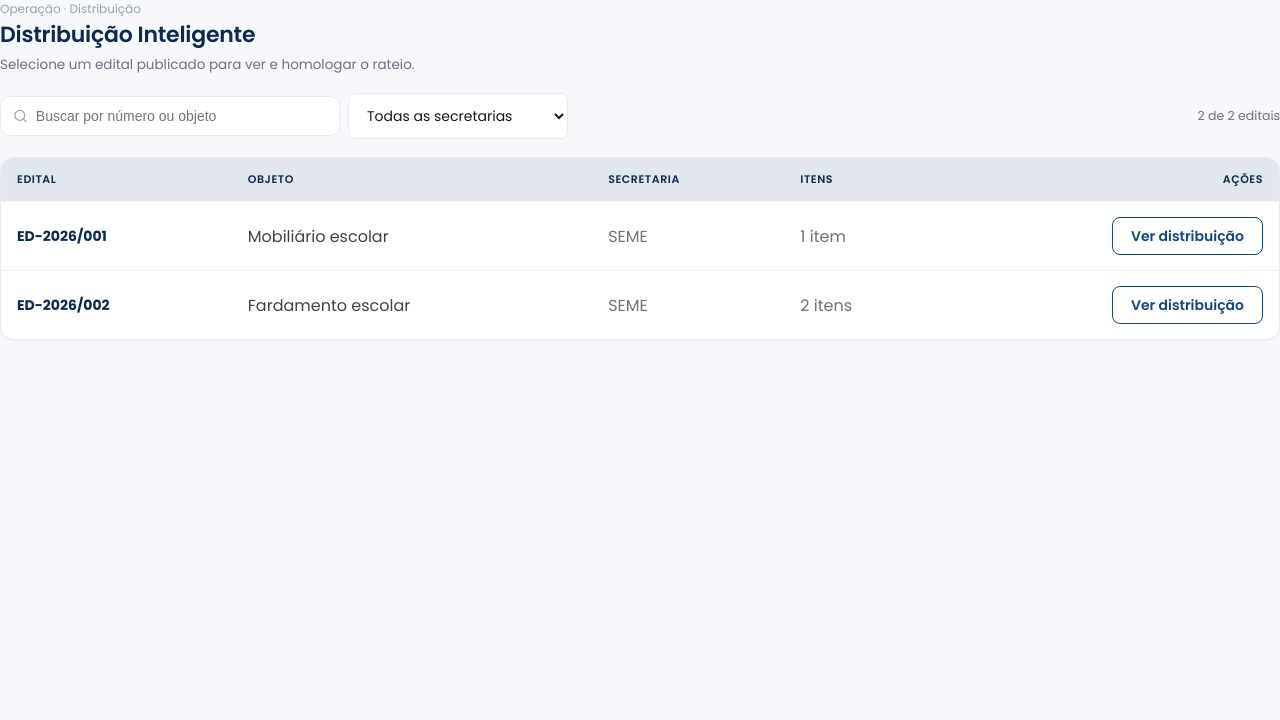
Test case: DistribuicaoInteligente — Painel Admin (UC008/RN005) › abre o modal com totais e rateio por item ao clicar em "Ver distribuição"
The image size is (1280, 720).
Click the button with test id "ver-distribuicao" in the row of "ED-2026/001" at (1187,236), box [1112,217,1263,255]
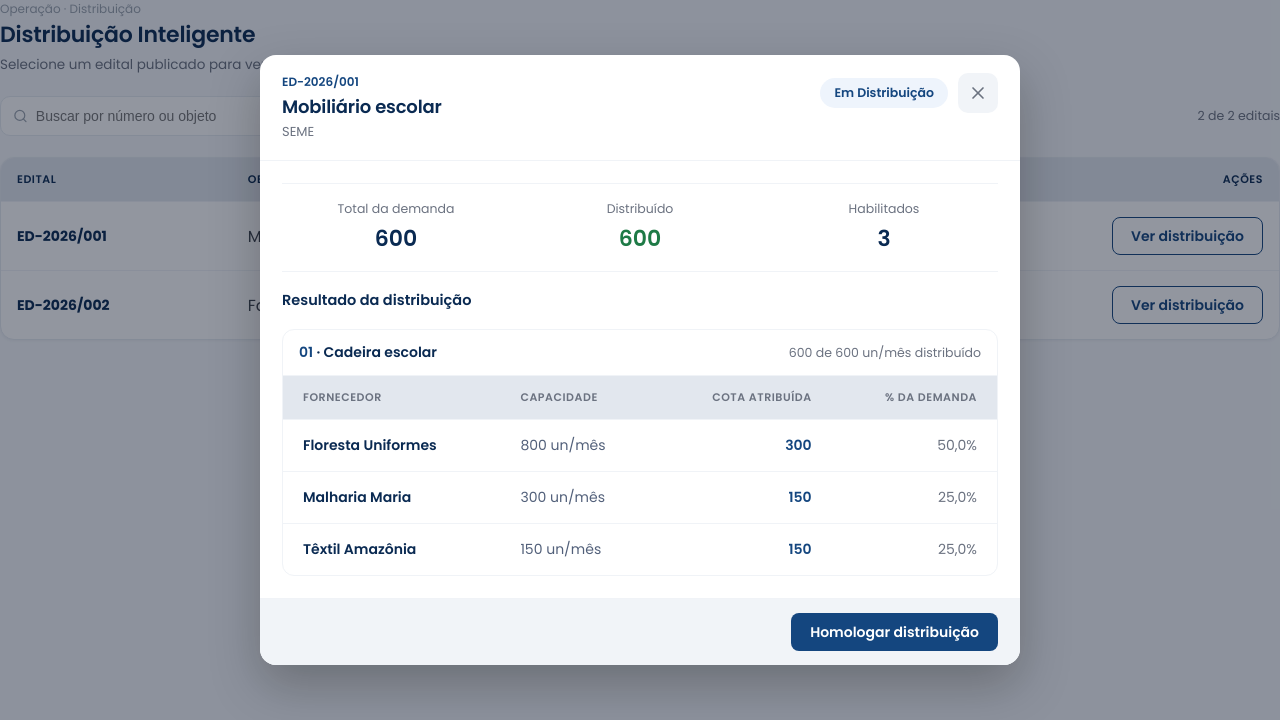
Expected: the text with test id "stat-total" reads "600", [375,223,417,254]
Expected: the text with test id "stat-habilitados" reads "3", [877,223,891,254]
Expected: the number of rows with test id "linha-rateio" is 3, [283,420,997,472]; [283,472,997,524]; [283,524,997,575]
